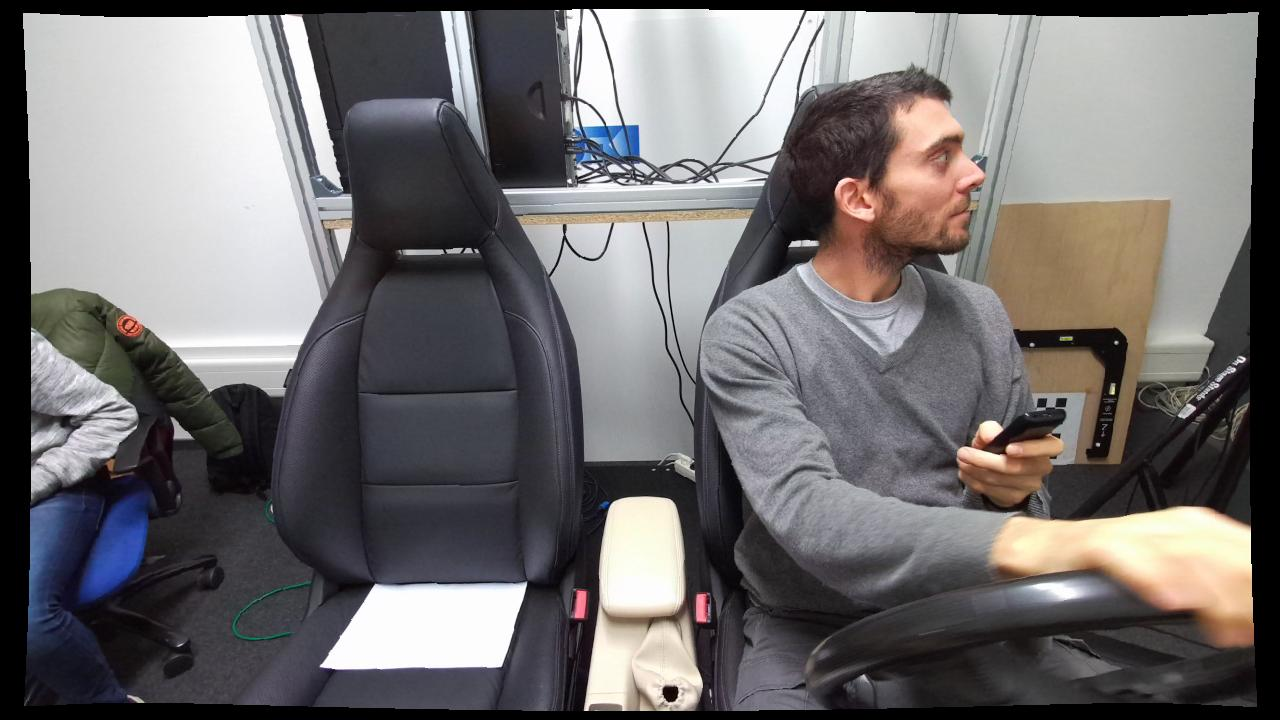Distracted: (700, 62, 1074, 720)
PhoneUse: (941, 406, 1081, 512)
